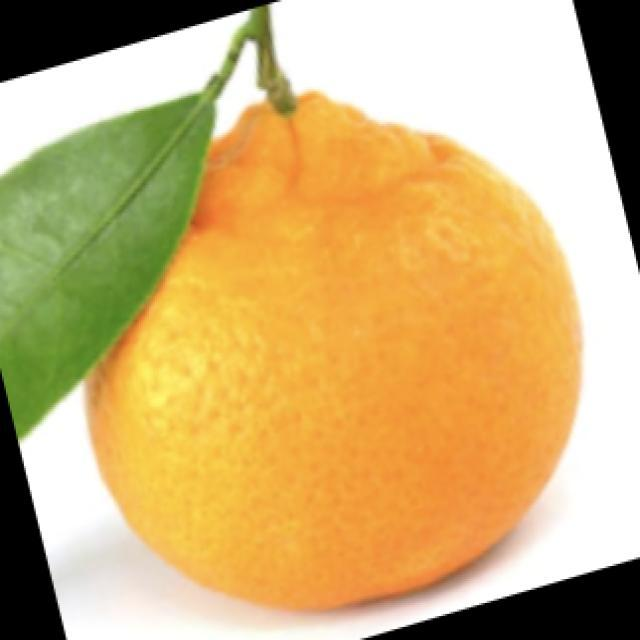matang: (88, 92, 581, 608)
